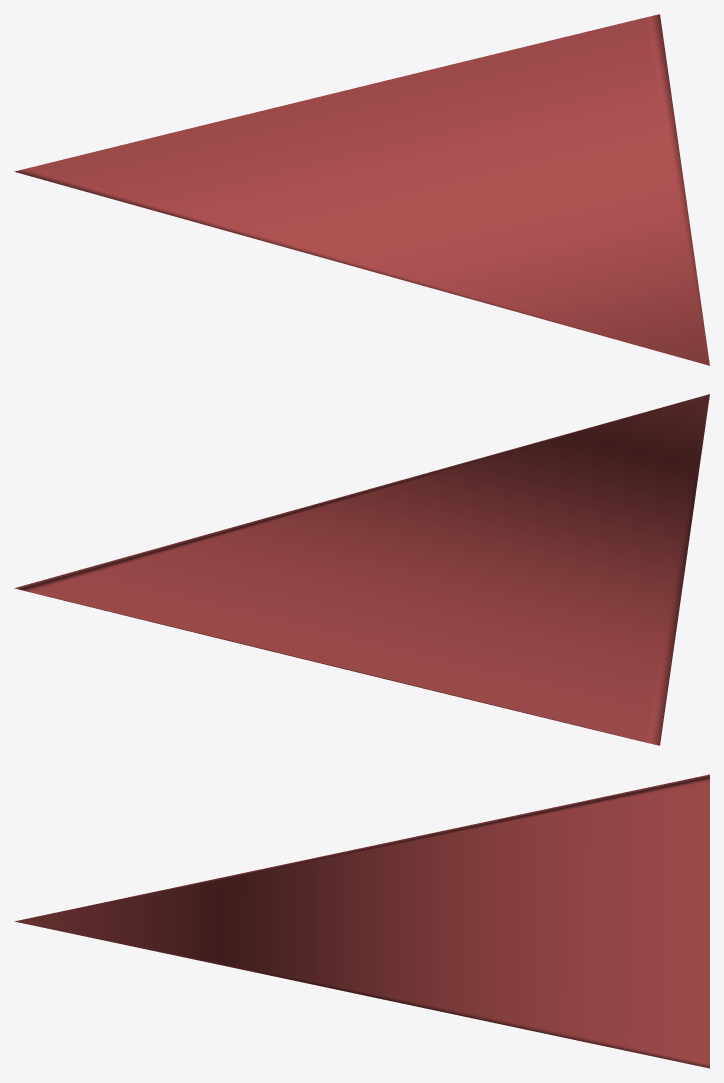
Rendered from LineofSight.fbx.
3 renders of one model, top to bottom at view 1: azimuth 30°, elevation 25°; view 2: azimuth 150°, elevation 25°; view 3: azimuth 270°, elevation 25°, orthographic. The views are drawn at different scales.
Visible parts, largest first — view 1: pCone1; view 2: pCone1; view 3: pCone1.
Boxes of the visible parts, bbox=[...] form: pCone1: bbox=[14, 14, 709, 365]; pCone1: bbox=[14, 394, 709, 745]; pCone1: bbox=[14, 774, 709, 1068].
Size of the model in its own units: 2 by 0.002 by 2.
